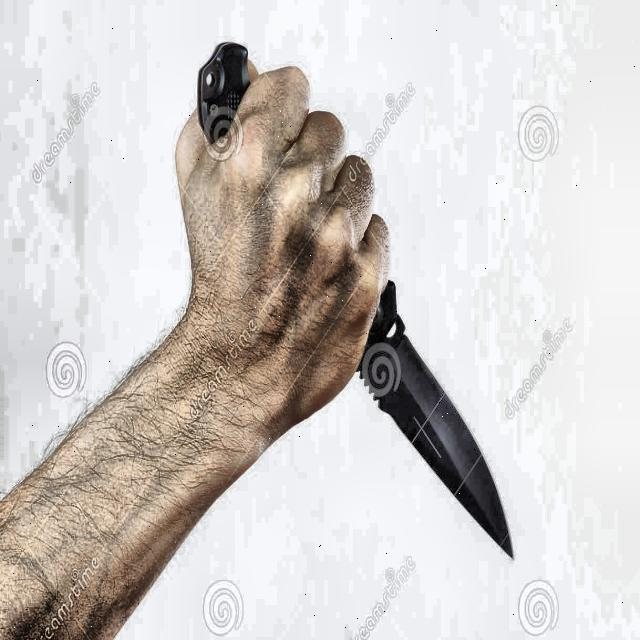knife: (198, 42, 515, 560)
